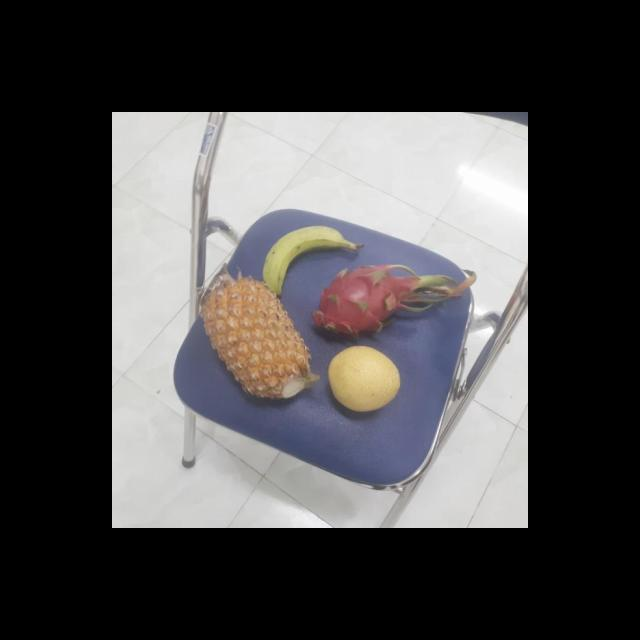banana: (252, 223, 352, 290)
pear: (323, 347, 402, 413)
pineapple: (199, 278, 314, 398)
pitaya: (310, 264, 418, 344)
